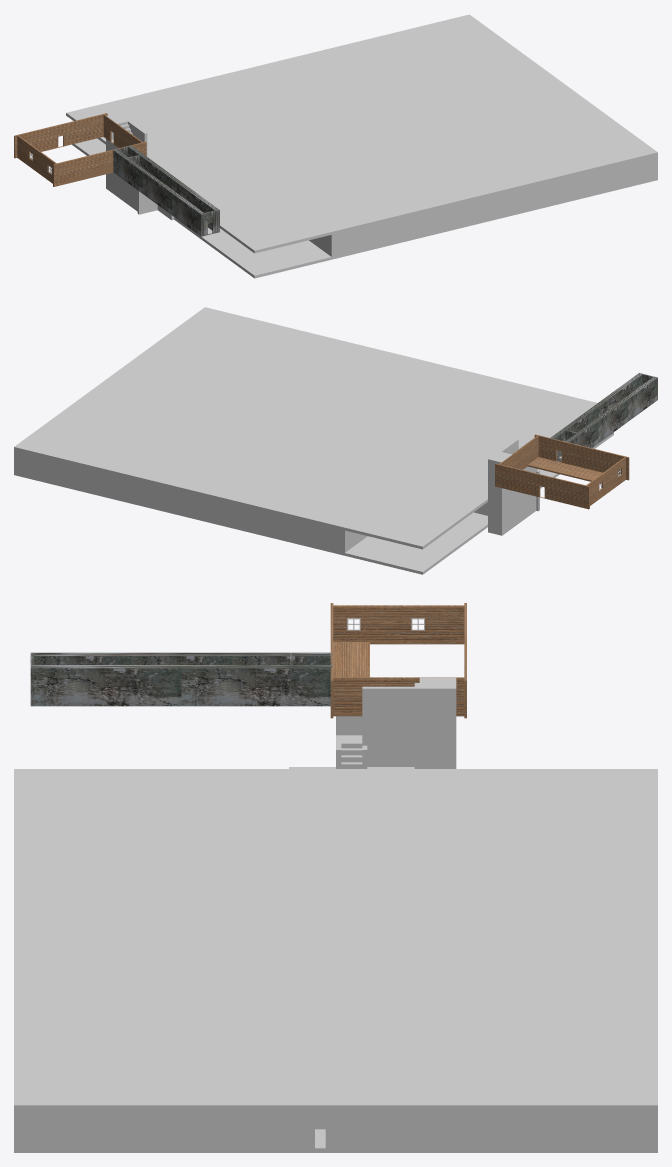
The model's file is all_Wall 1.fbx.
3 renders of one model, top to bottom at view 1: azimuth 30°, elevation 25°; view 2: azimuth 150°, elevation 25°; view 3: azimuth 270°, elevation 25°, orthographic. The views are drawn at different scales.
Visible parts, largest first — view 1: 2S_Wall002, 2S_Maze_Out003, 2S_Wall001, 0S_Wall001, 1S_Wall002, 2S_Maze_Out007, 2S_Maze_Out004, 1S_Wall001, 0S_Wall002, 2S_Maze_Out002, 1S_Wall003, 2S_Wall012 (+3 smaller); view 2: 2S_Wall002, 2S_Maze_Out004, 2S_Wall001, 1S_Wall002, 0S_Wall001, 2S_Maze_Out007, 1S_Wall001, 2S_Maze_Out003, 0S_Wall002, 2S_Wall012, 1S_Wall003, 1S_Box (+7 smaller); view 3: 2S_Wall002, 2S_Maze_Out007, 0S_Wall002, 2S_Wall011, 1S_Wall003, 0S_Wall001, 2S_Maze_Out004, 2S_Maze_Out003, 1S_Wall004, 1S_Box.
Boxes of the visible parts, bbox=[...] form: 2S_Wall002: bbox=[66, 16, 648, 253]; 2S_Maze_Out003: bbox=[327, 152, 657, 259]; 2S_Wall001: bbox=[72, 138, 509, 278]; 0S_Wall001: bbox=[113, 149, 205, 236]; 1S_Wall002: bbox=[14, 113, 107, 158]; 2S_Maze_Out007: bbox=[462, 14, 657, 154]; 2S_Maze_Out004: bbox=[143, 16, 465, 97]; 1S_Wall001: bbox=[53, 141, 146, 186]; 0S_Wall002: bbox=[128, 145, 219, 232]; 2S_Maze_Out002: bbox=[236, 161, 338, 256]; 1S_Wall003: bbox=[17, 135, 57, 184]; 2S_Wall012: bbox=[106, 139, 142, 213]; 2S_Wall002: bbox=[22, 310, 597, 549]; 2S_Maze_Out004: bbox=[22, 448, 348, 555]; 2S_Wall001: bbox=[22, 432, 613, 574]; 1S_Wall002: bbox=[495, 463, 589, 509]; 0S_Wall001: bbox=[565, 377, 656, 447]; 2S_Maze_Out007: bbox=[14, 307, 212, 476]; 1S_Wall001: bbox=[534, 434, 629, 480]; 2S_Maze_Out003: bbox=[209, 309, 533, 390]; 0S_Wall002: bbox=[550, 373, 642, 457]; 2S_Wall012: bbox=[500, 466, 537, 535]; 1S_Wall003: bbox=[585, 457, 625, 508]; 1S_Box: bbox=[527, 457, 602, 484]; 2S_Wall002: bbox=[14, 769, 657, 1110]; 2S_Maze_Out007: bbox=[14, 1098, 657, 1152]; 0S_Wall002: bbox=[30, 665, 332, 706]; 2S_Wall011: bbox=[362, 686, 456, 768]; 1S_Wall003: bbox=[333, 605, 464, 644]; 0S_Wall001: bbox=[30, 652, 330, 664]; 2S_Maze_Out004: bbox=[642, 833, 657, 1098]; 2S_Maze_Out003: bbox=[14, 833, 29, 1098]; 1S_Wall004: bbox=[333, 677, 464, 716]; 1S_Box: bbox=[333, 642, 369, 716].
Size of the model in its own units: 1927 by 260 by 1230.
